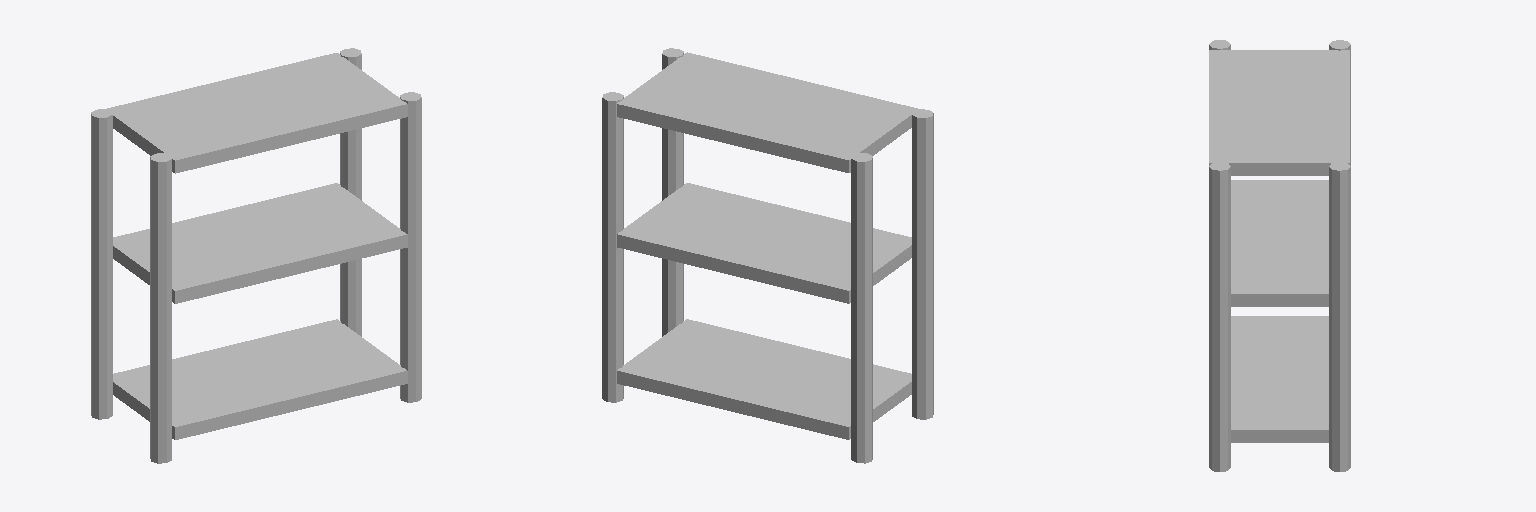
The model's file is shelf.obj.
3 views of the same model, side by side, from view 1: azimuth 30°, elevation 25°; view 2: azimuth 150°, elevation 25°; view 3: azimuth 270°, elevation 25° (orthographic).
Visible parts, largest first — view 1: pCube1, pCube3, pCube2, pCylinder3, pCylinder4, pCylinder1, pCylinder2; view 2: pCube1, pCube3, pCube2, pCylinder4, pCylinder3, pCylinder2, pCylinder1; view 3: pCube1, pCube3, pCube2, pCylinder2, pCylinder1.
Boxes of the visible parts, box(x1,y1,x2,y2) form: pCube1: box(106, 53, 407, 173); pCube3: box(113, 319, 407, 439); pCube2: box(113, 183, 407, 303); pCylinder3: box(150, 153, 171, 463); pCylinder4: box(91, 109, 112, 419); pCylinder1: box(400, 92, 421, 402); pCylinder2: box(340, 48, 361, 336); pCube1: box(617, 52, 918, 172); pCube3: box(617, 319, 911, 439); pCube2: box(617, 183, 911, 303); pCylinder4: box(851, 153, 872, 463); pCylinder3: box(912, 109, 933, 419); pCylinder2: box(602, 92, 623, 402); pCylinder1: box(662, 48, 683, 336); pCube1: box(1209, 50, 1349, 175); pCube3: box(1231, 316, 1328, 442); pCube2: box(1231, 180, 1328, 306); pCylinder2: box(1329, 161, 1350, 471); pCylinder1: box(1209, 161, 1230, 471).
Size of the model in its own units: 6.21 by 6.64 by 2.83.